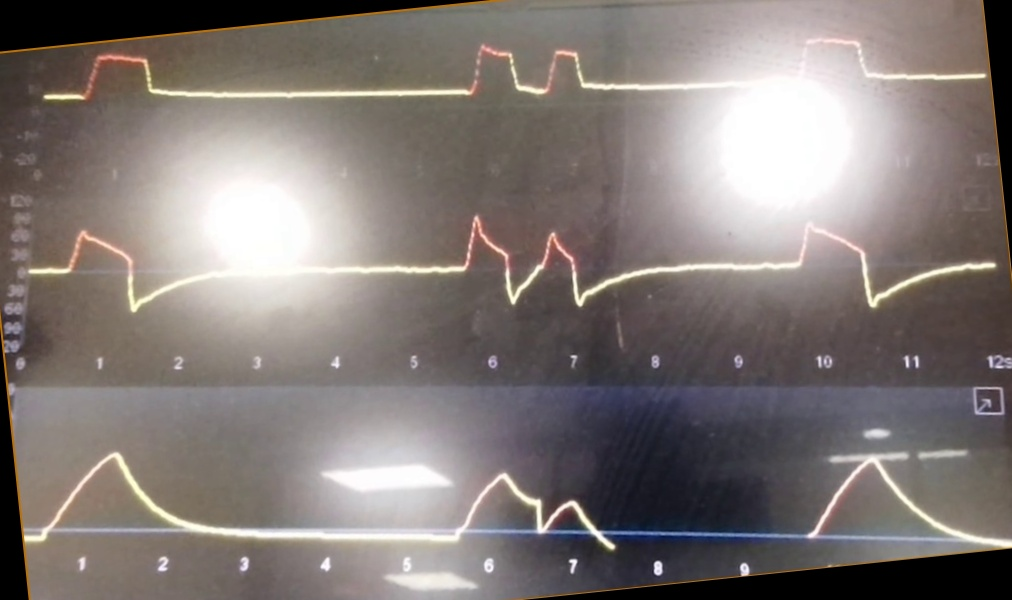Double_Triggering Flow: (65, 181, 884, 320)
Double_Triggering Volume: (97, 410, 871, 548)
